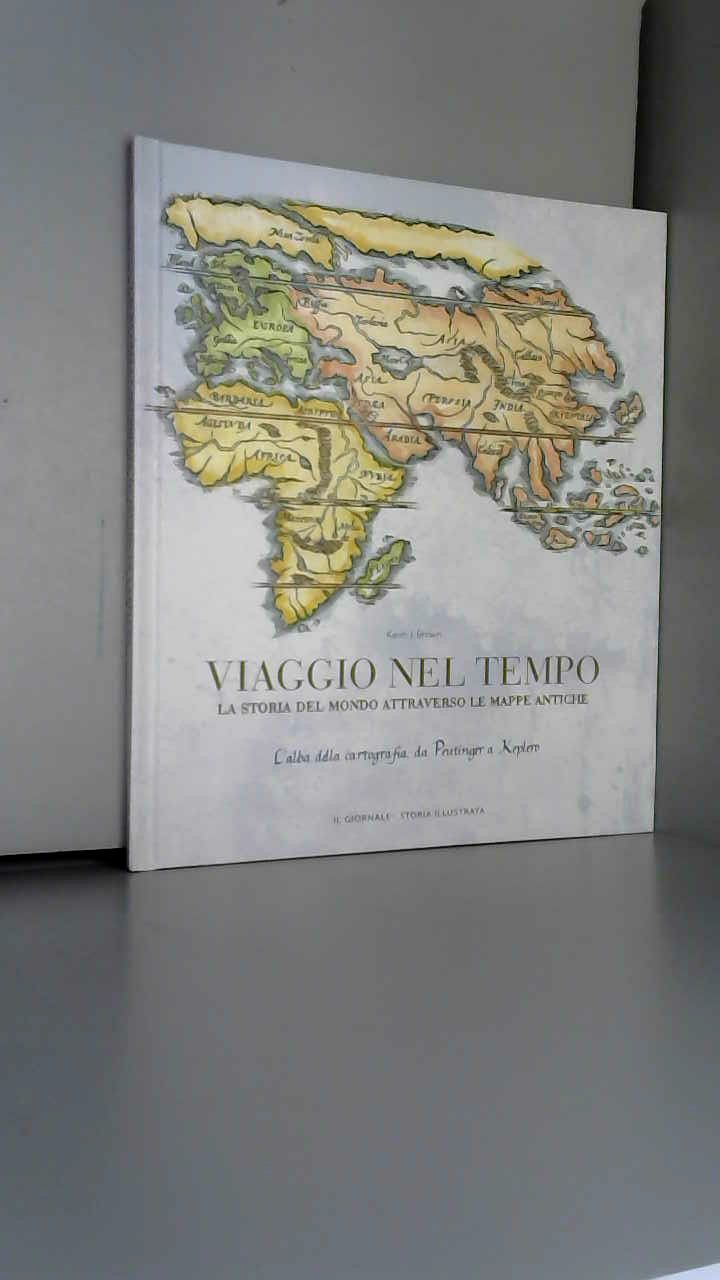book: (90, 110, 719, 941)
